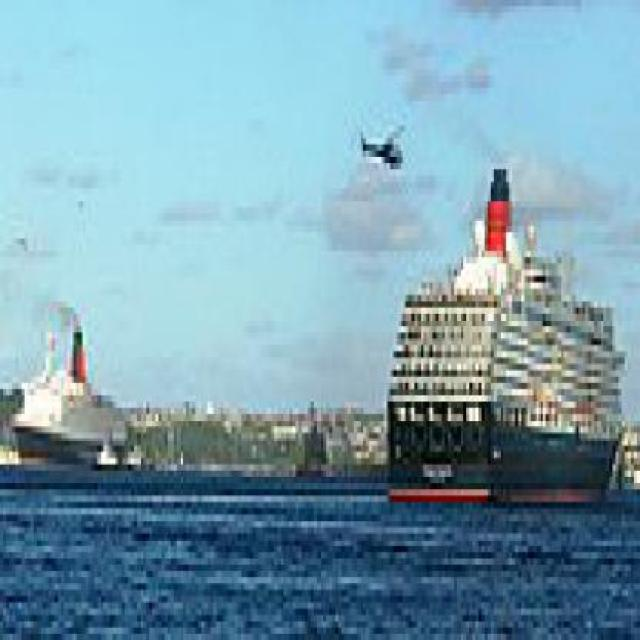cruise: (370, 157, 636, 516)
